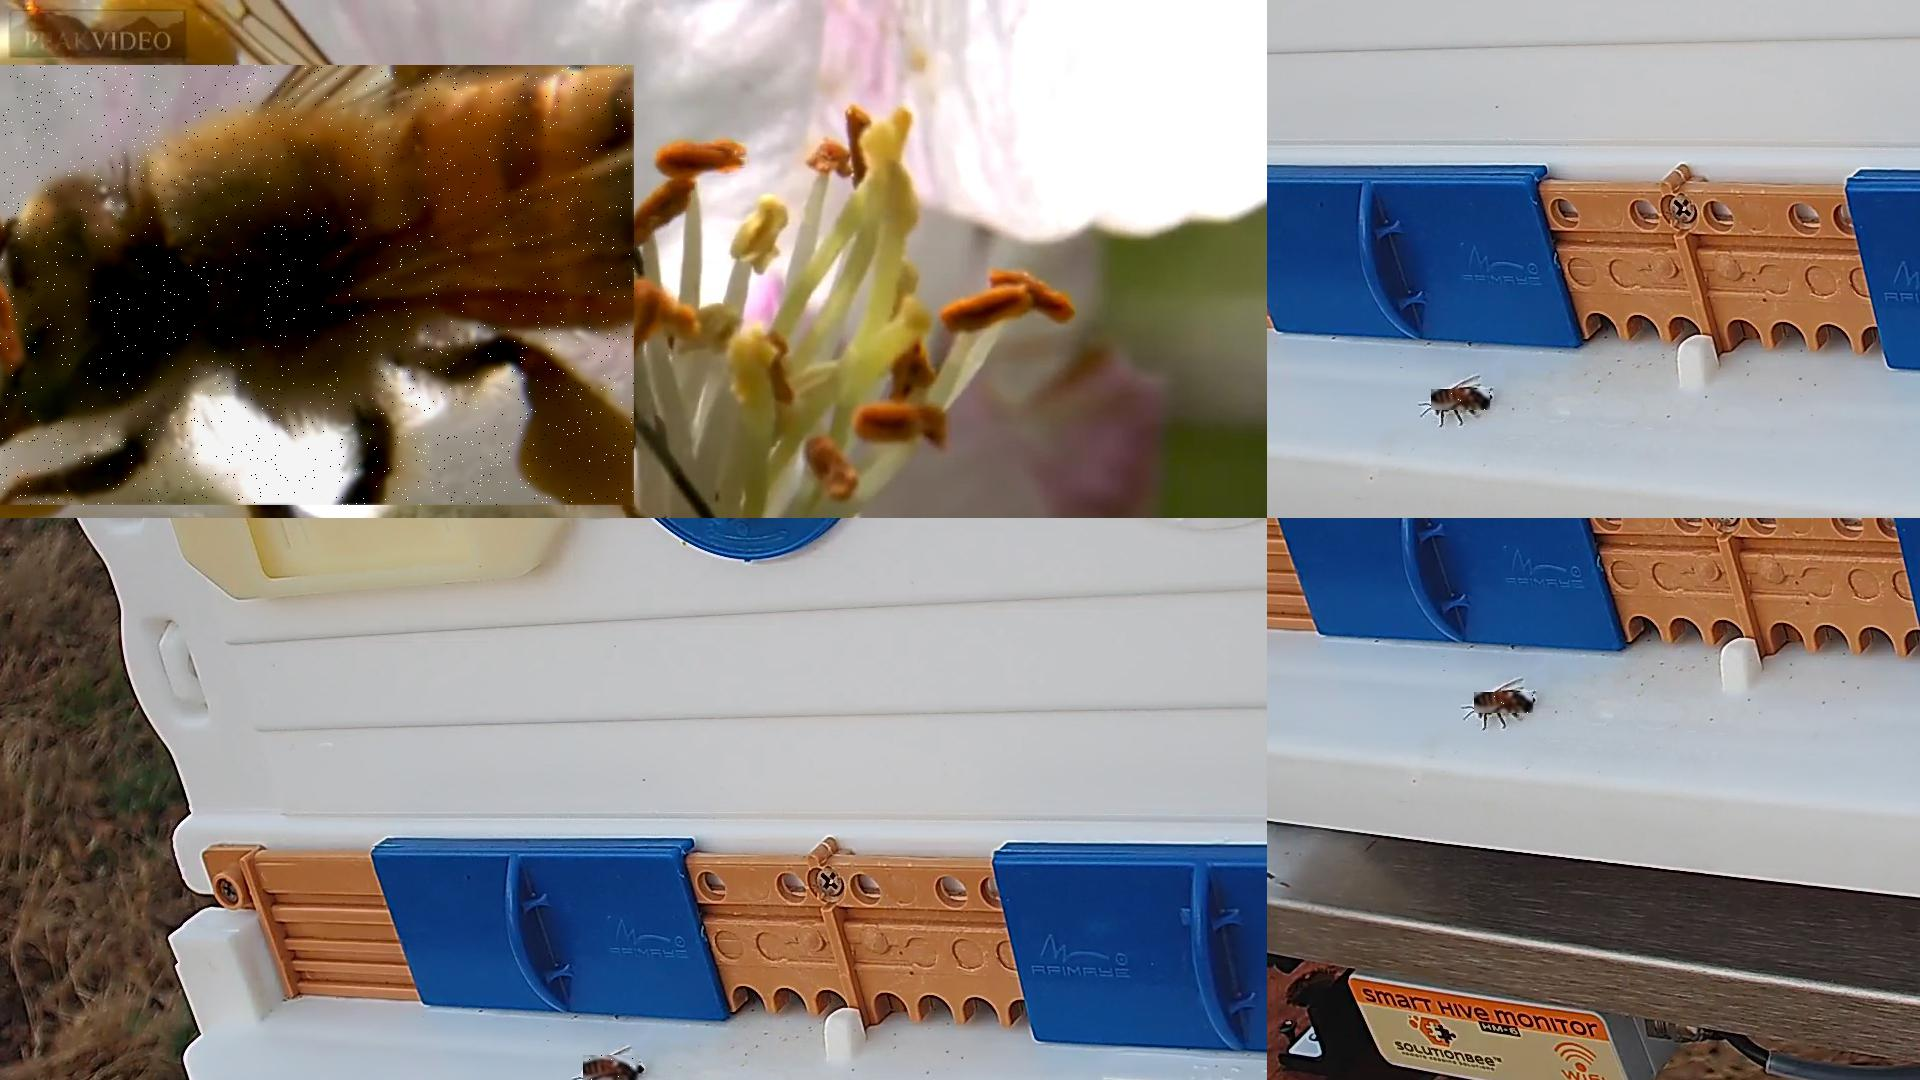bee: (584, 1055, 642, 1079), (1431, 389, 1491, 411), (1474, 692, 1535, 715)
pollenbee: (0, 65, 636, 506)
